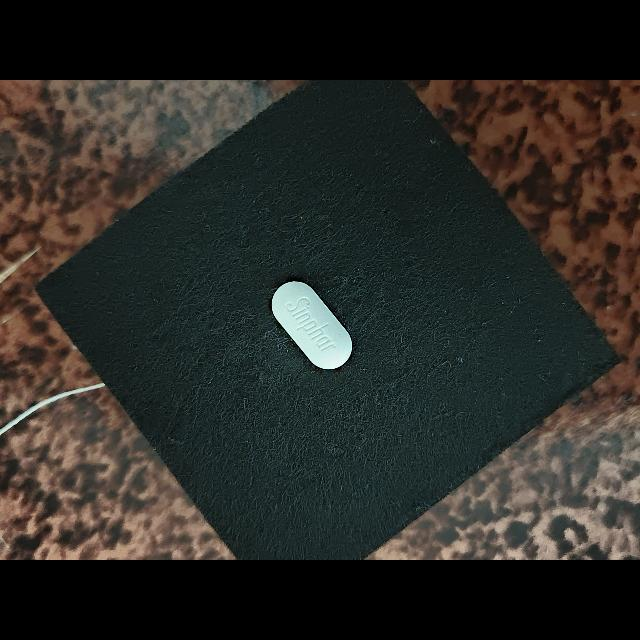Intact Pill: (272, 281, 352, 370)
